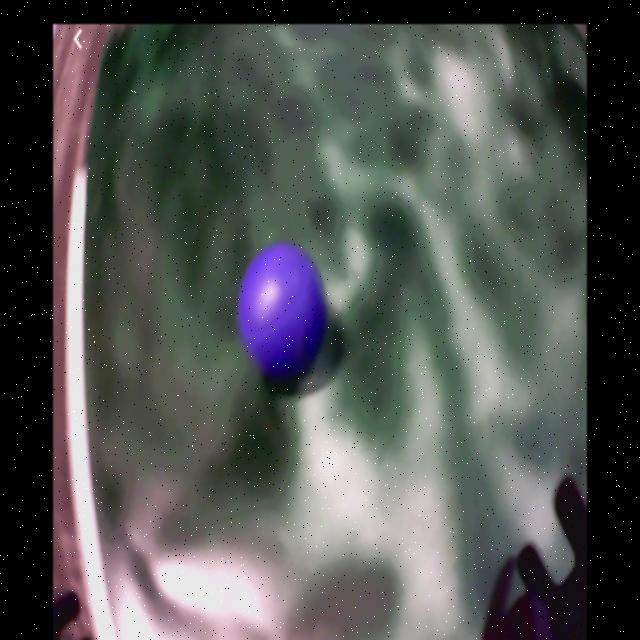ball: (240, 244, 326, 378)
